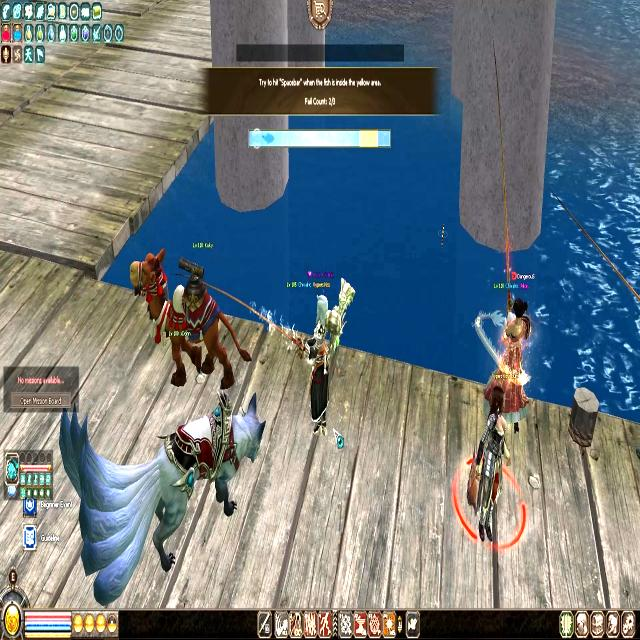fishes: (260, 129, 274, 148)
